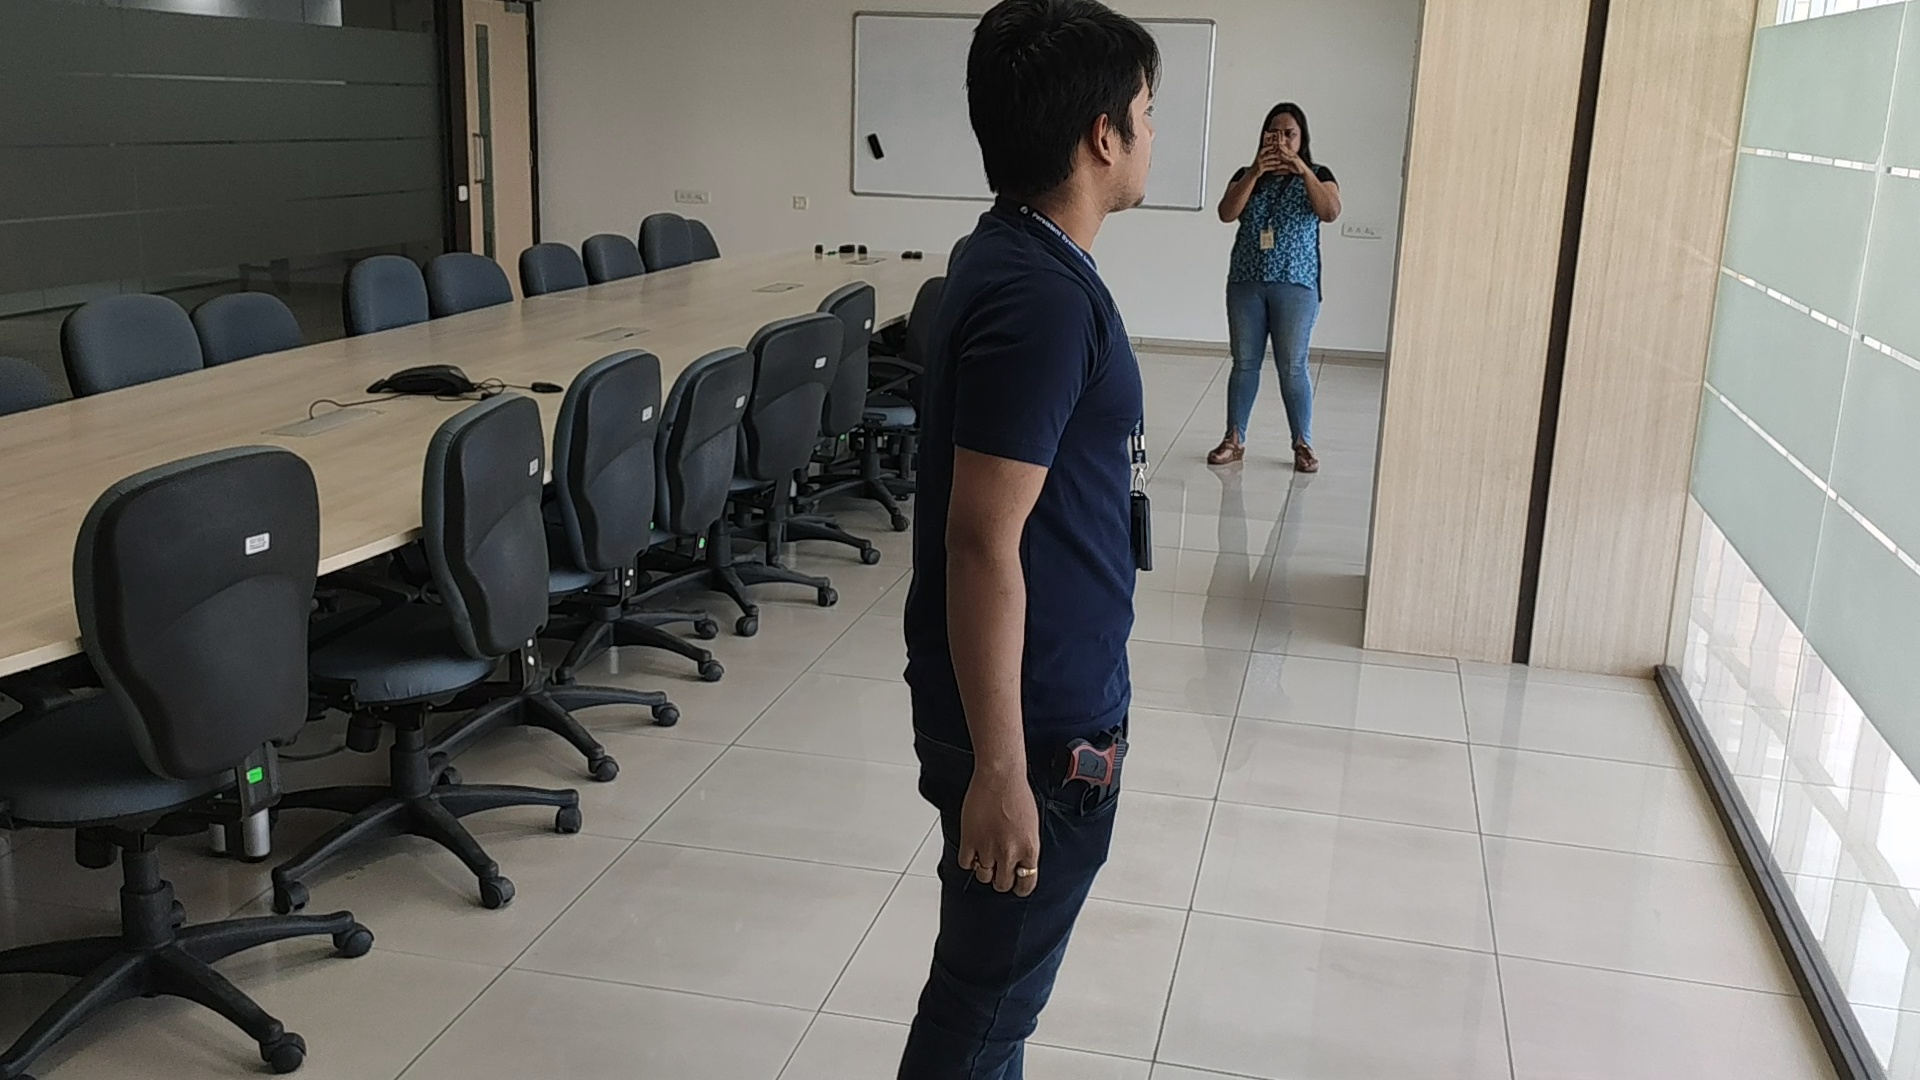gun: (1060, 729, 1129, 819)
